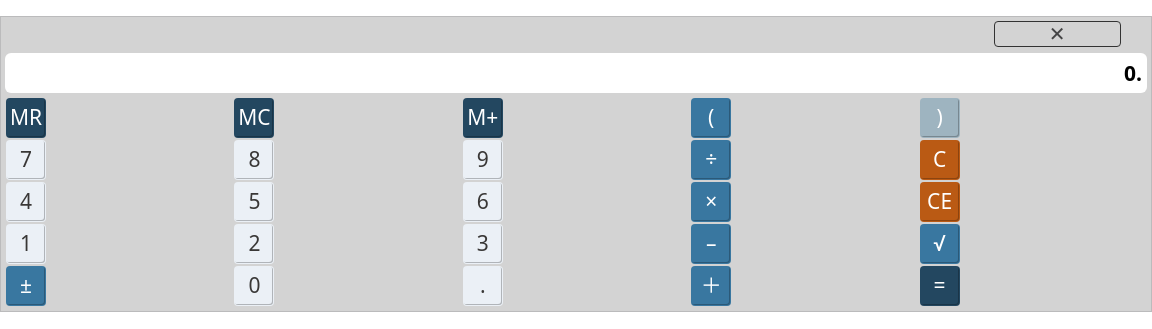
Test: TestCalc › click inputs › should handle positive sq roots
Click the button "9": [483, 160] box [463,140,503,180]
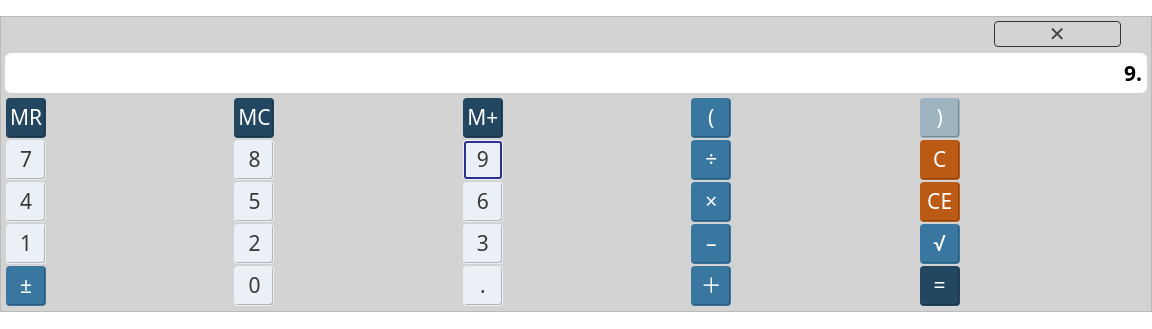
Click the button "√": [940, 244] box [920,224,960,264]
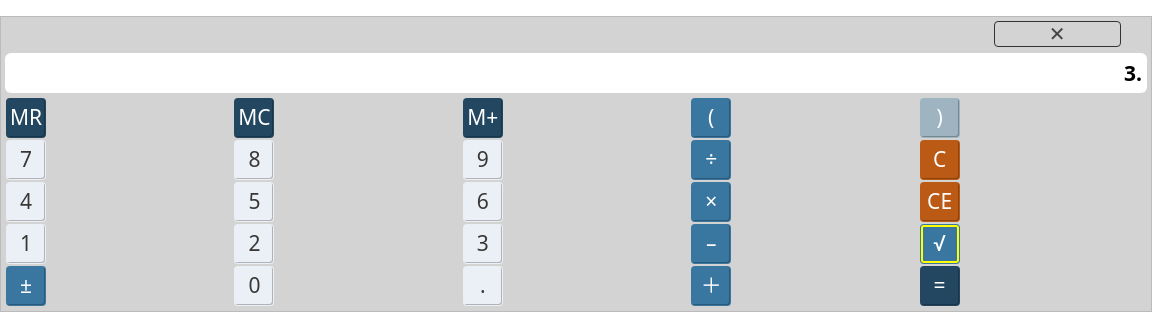
Expected: the text "3." is shown, [1124,59,1142,87]
